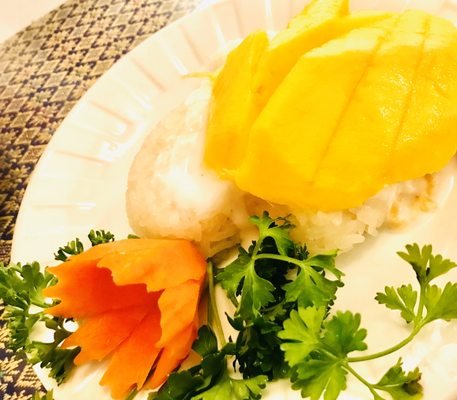pizza: (42, 237, 208, 396)
